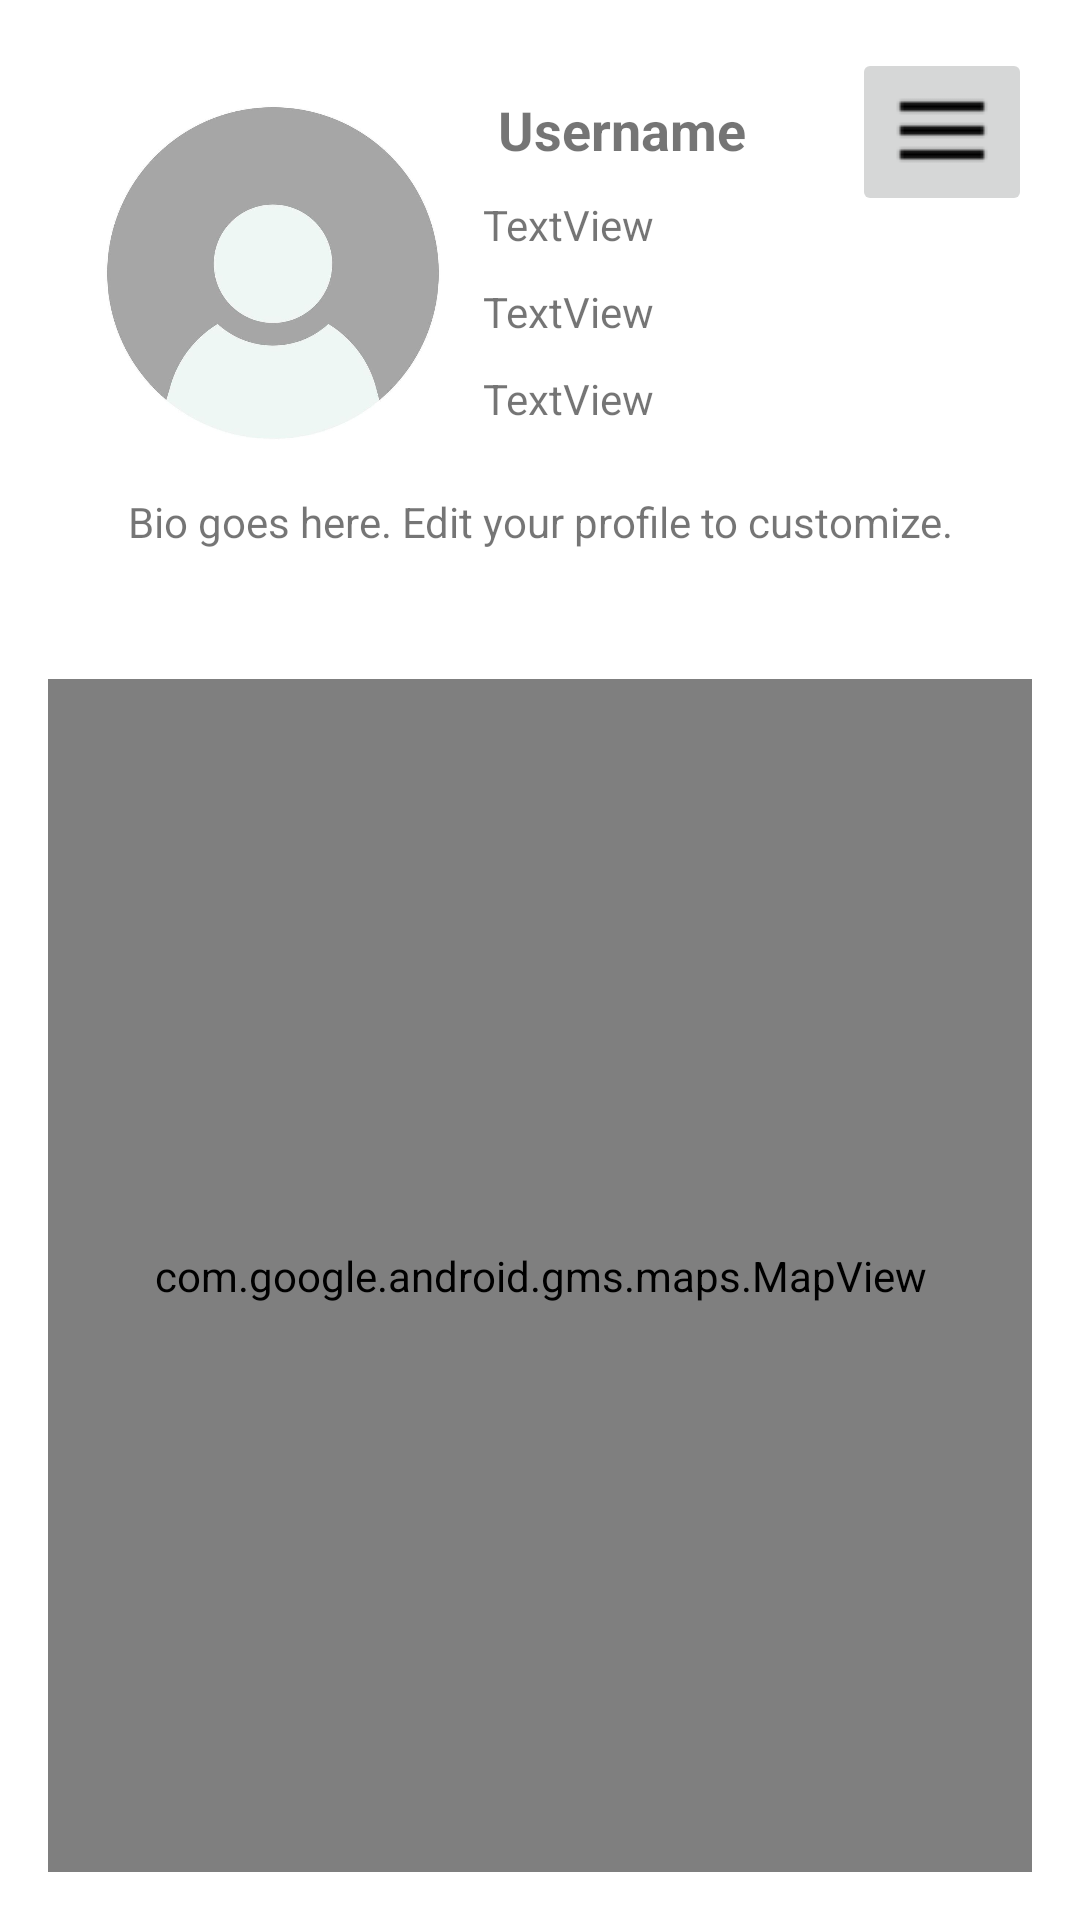

Icons on this 1080 × 1920 Android screen, each with the point to tap as (x=x, y=y):
Menu: (x=942, y=132)
